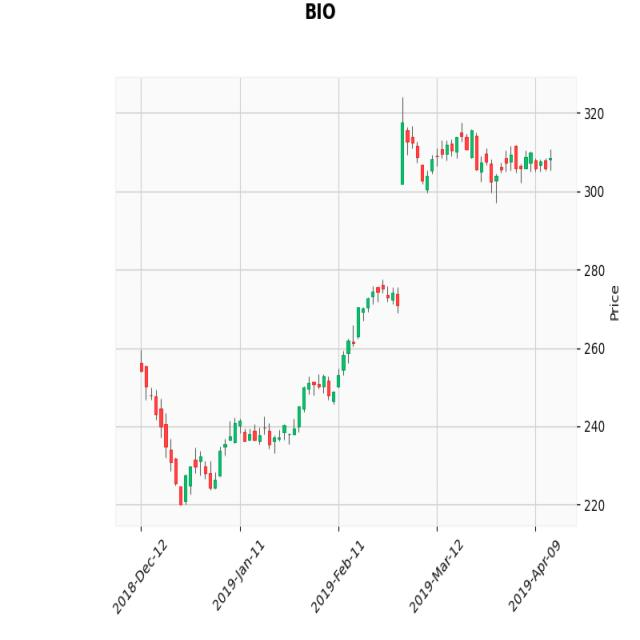Double-Bottom: (157, 416, 236, 516)
